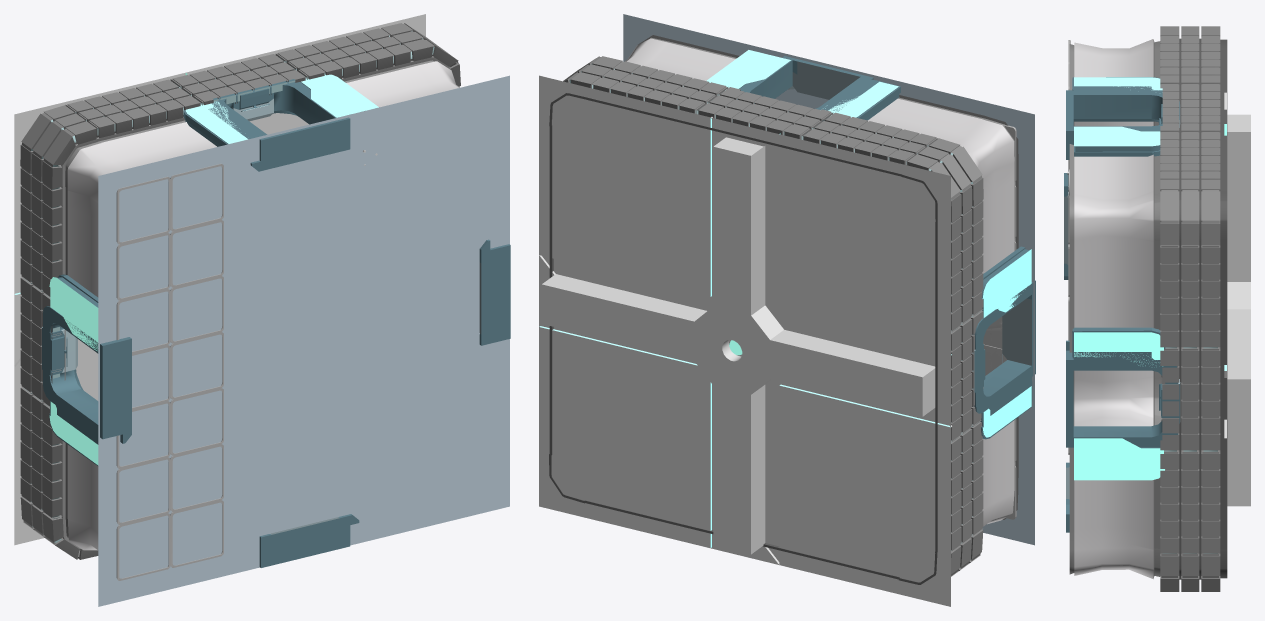
File: -90onxv3.fbx
3 views of the same model, side by side, from view 1: azimuth 30°, elevation 25°; view 2: azimuth 150°, elevation 25°; view 3: azimuth 270°, elevation 25° (orthographic). The views are drawn at different scales.
Visible parts, largest first — view 1: m_roomSmall001_Floor; view 2: m_roomSmall001_Floor; view 3: m_roomSmall001_Floor.
Part boxes in pixels (<box>): m_roomSmall001_Floor: <box>14,14,510,606</box>; m_roomSmall001_Floor: <box>539,14,1035,606</box>; m_roomSmall001_Floor: <box>1064,26,1250,591</box>.
Bounding box in the file's own units: 1010 × 1012 × 423.
